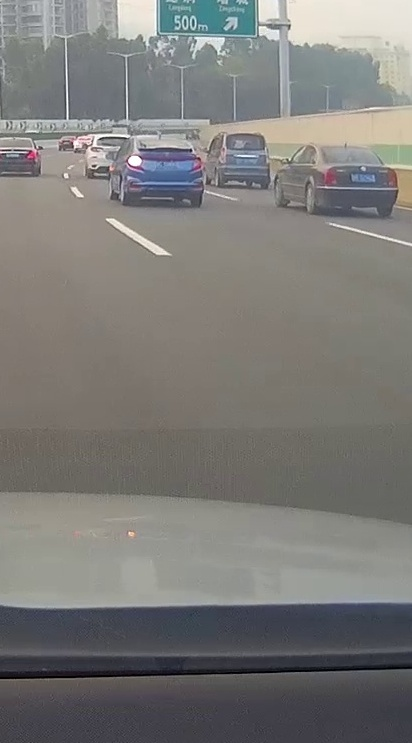L_light: (322, 166, 337, 188), (126, 155, 144, 172), (219, 147, 227, 164)
R_light: (386, 169, 398, 188), (189, 156, 202, 172), (265, 146, 270, 165)
T_light: (239, 133, 252, 136), (154, 137, 165, 140), (340, 146, 351, 149)
day-left: (123, 137, 205, 209)
day-no: (311, 145, 399, 216), (216, 132, 271, 188)
